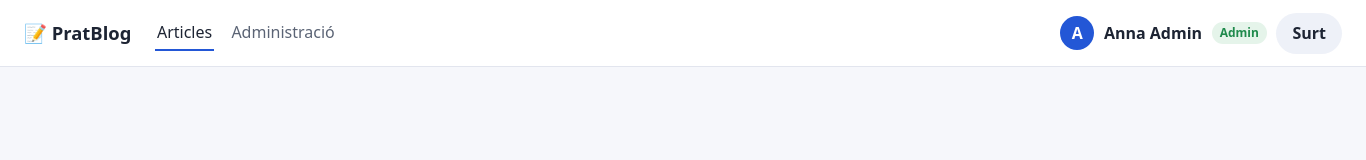
Scenario: TODO 12 · La capçalera mostra qui hi ha connectat › el botó Surt tanca la sessió (necessita el TODO 8)
Step 1. Click the button "Surt" → click(1309, 33), box [1276, 13, 1342, 54]
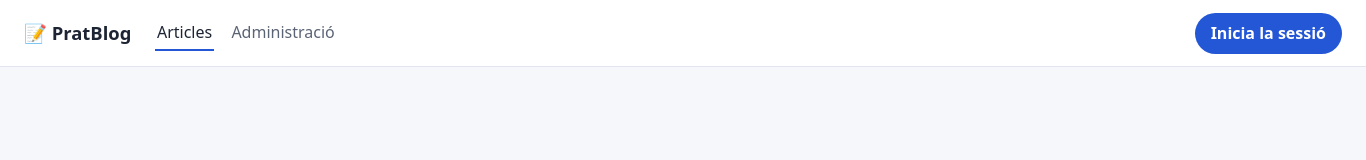
expect the link "Inicia la sessió" is shown: met, box [1195, 13, 1342, 54]
